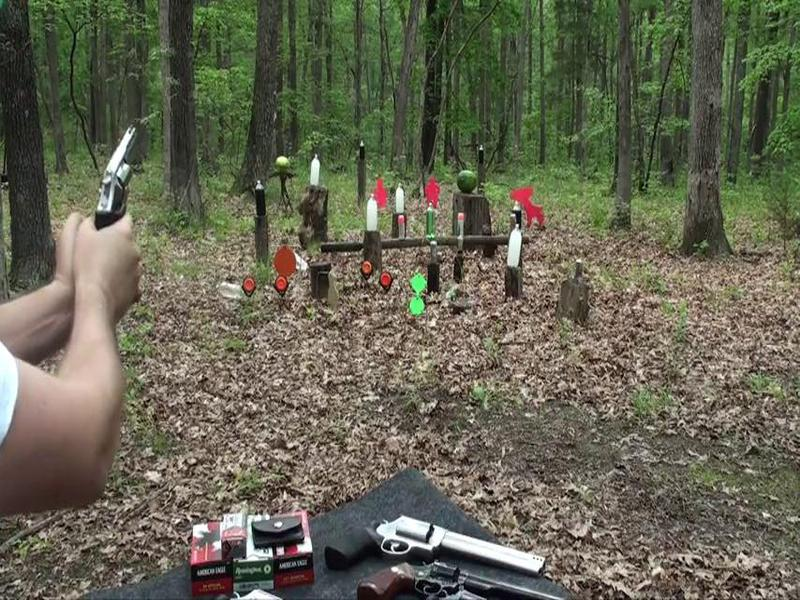Revolver: (89, 113, 151, 244)
